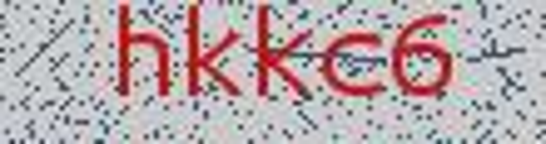6: (389, 4, 460, 109)
c: (320, 21, 391, 107)
h: (106, 3, 173, 113)
k: (247, 1, 317, 115), (181, 2, 242, 111)
